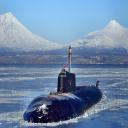submarine: (23, 44, 104, 125)
